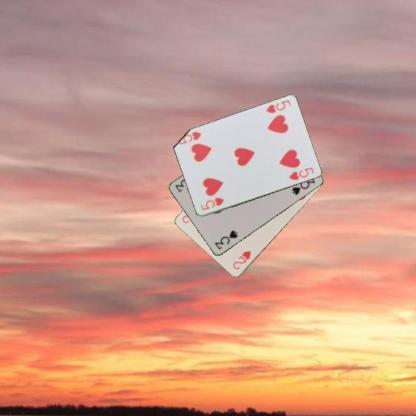2h: (230, 248, 252, 271)
3s: (212, 228, 239, 252)
5h: (263, 97, 292, 114), (198, 196, 224, 212)
